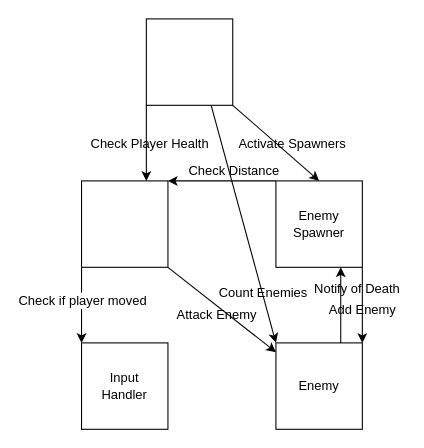
This 424x448 diagram has some shape labels left out. Each missing label, with the centre of its shape:
"Game Manager" belongs at [189,61].
"Player" belongs at [124,223].
